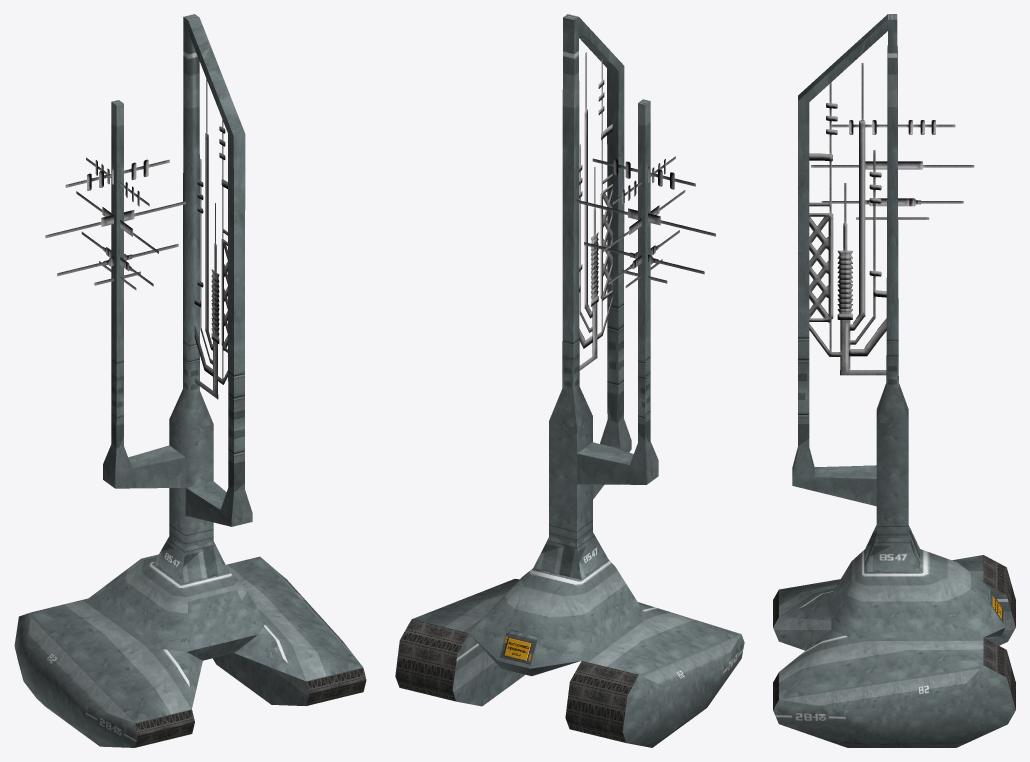
Rendered from pbtran00.FBX.
3 renders of one model, left to right at view 1: azimuth 30°, elevation 25°; view 2: azimuth 150°, elevation 25°; view 3: azimuth 270°, elevation 25°, orthographic.
Parts seen in each view (by area): view 1: pbtran00, ant__2, fauxtread; view 2: pbtran00, fauxtread, ant__2; view 3: pbtran00, ant__2, fauxtread.
Part boxes in pixels (<box>): pbtran00: <box>14,14,362,747</box>; ant__2: <box>45,79,227,399</box>; fauxtread: <box>135,667,366,747</box>; pbtran00: <box>412,14,744,747</box>; fauxtread: <box>395,619,638,742</box>; ant__2: <box>576,52,715,370</box>; pbtran00: <box>773,14,1015,747</box>; ant__2: <box>809,63,974,375</box>; fauxtread: <box>773,555,1015,709</box>.
Size of what is drawn, in the model's own units: 3.93 by 3.02 by 9.29.
